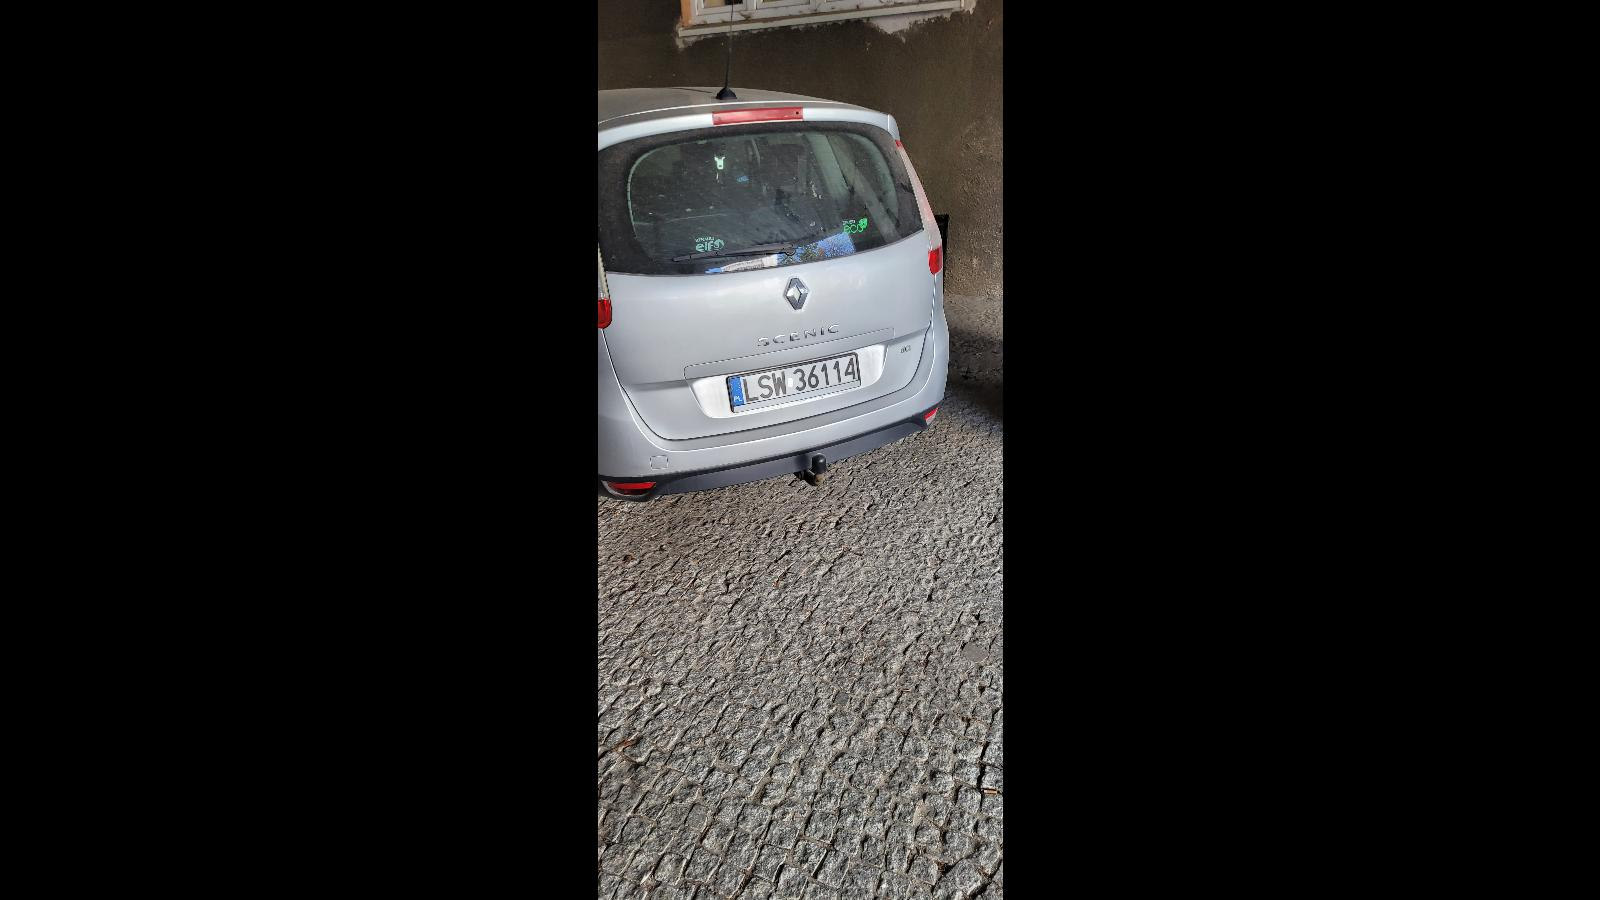plates: (725, 353, 861, 413)
